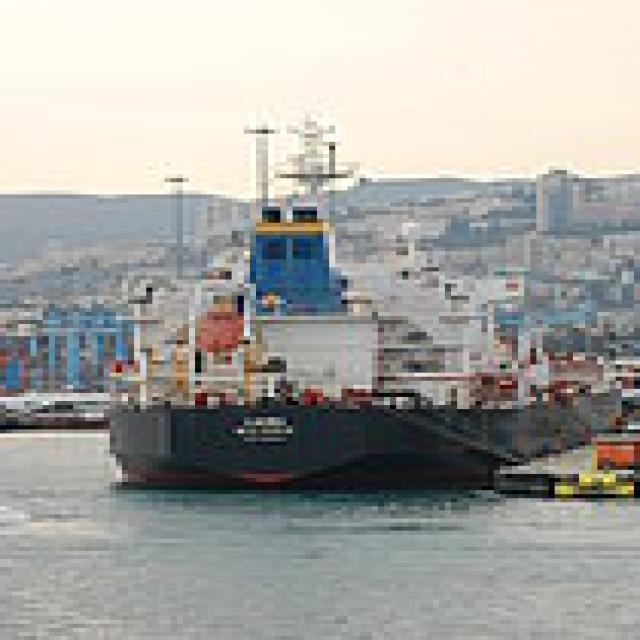Tanker: (98, 109, 616, 482)
